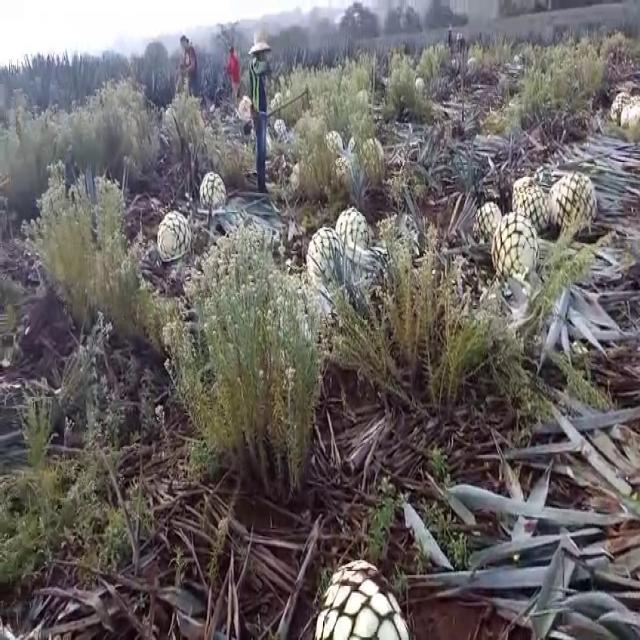agave: (316, 554, 406, 640), (490, 208, 540, 288), (548, 168, 599, 240), (510, 174, 548, 244), (307, 224, 348, 285), (154, 206, 191, 262), (198, 164, 229, 223), (474, 200, 504, 247), (608, 85, 632, 126), (621, 100, 639, 138)
